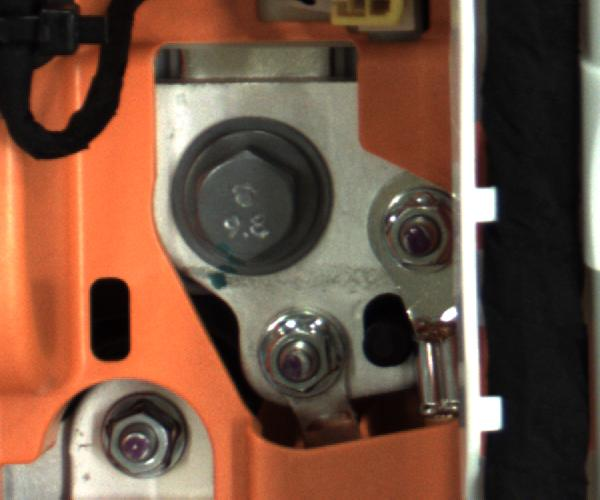nut_b: (174, 139, 311, 264)
screw_s: (82, 390, 200, 485), (244, 311, 366, 400), (370, 196, 447, 265)
